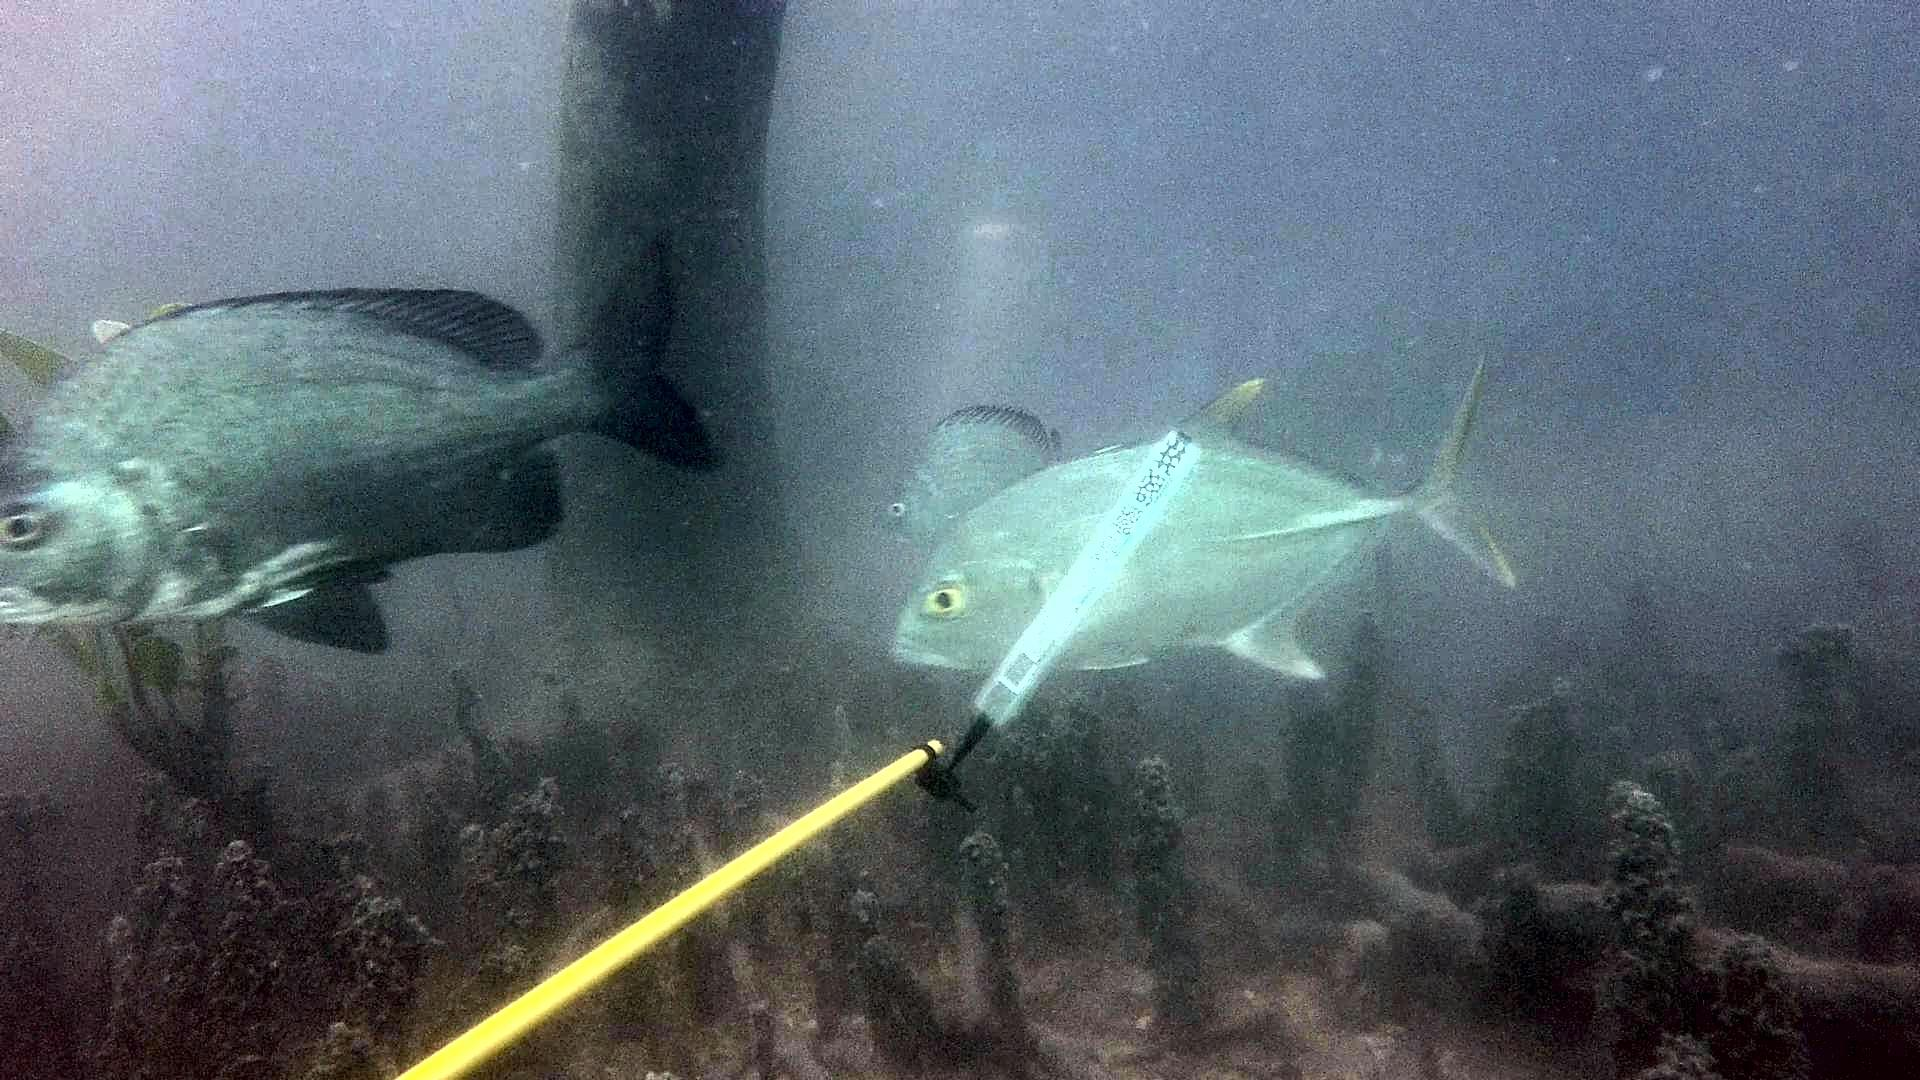acanthopagrus palmaris: (8, 223, 716, 661)
caranx: (870, 357, 1551, 690)
